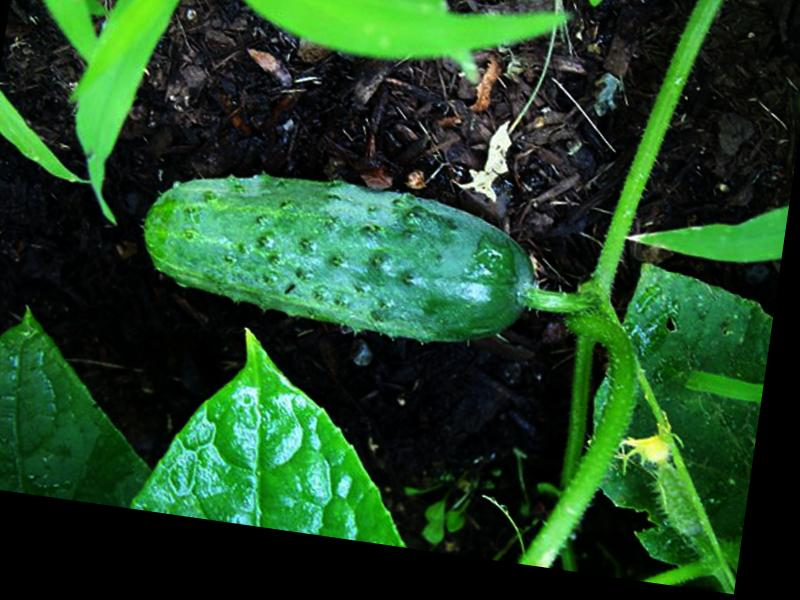Cucumber: (128, 153, 543, 355)
